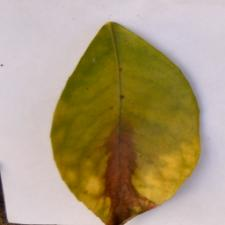Canker: (84, 104, 144, 220)
